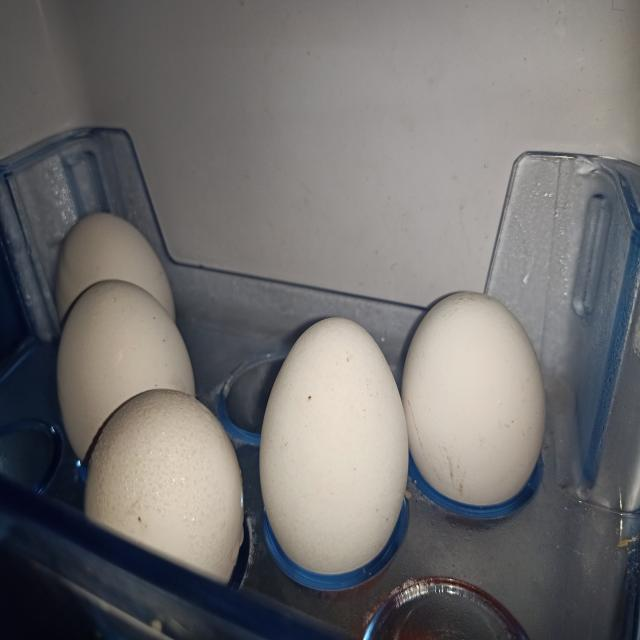Egg: (260, 317, 408, 575), (402, 291, 546, 506), (84, 389, 243, 583), (56, 280, 195, 460), (55, 212, 175, 321)
